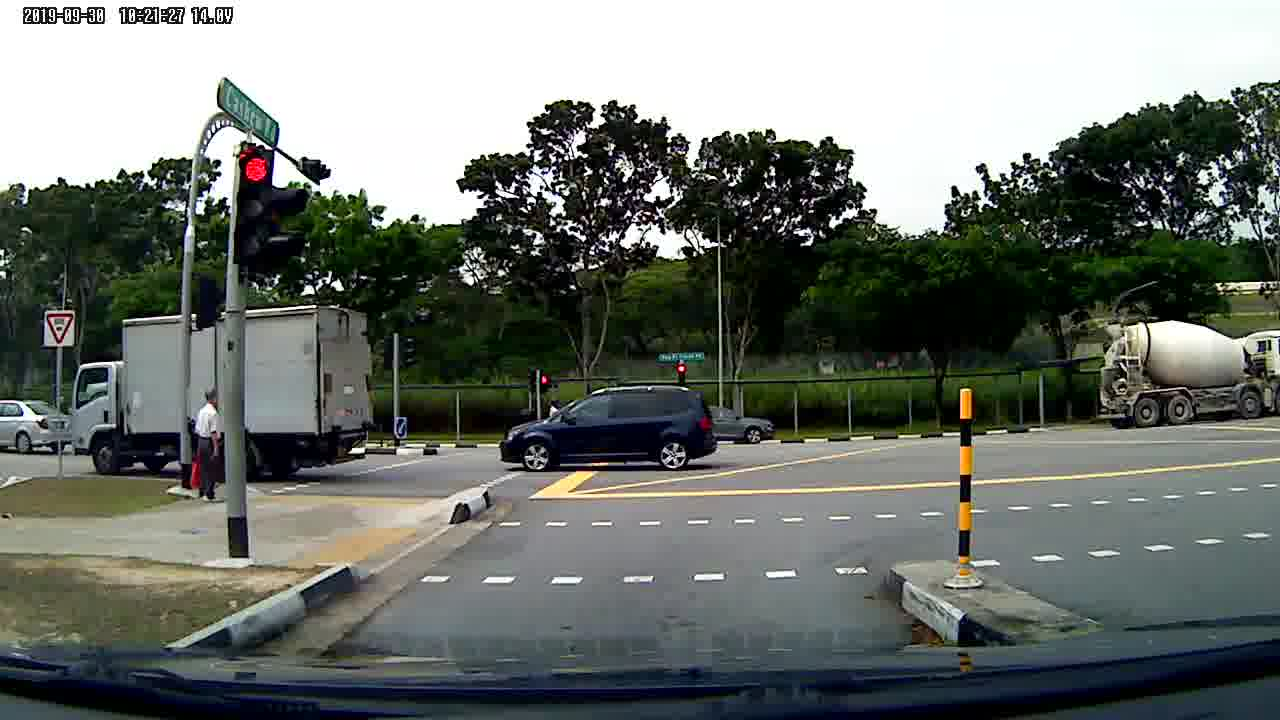car: (501, 386, 722, 483), (1, 401, 69, 455), (711, 401, 779, 449)
